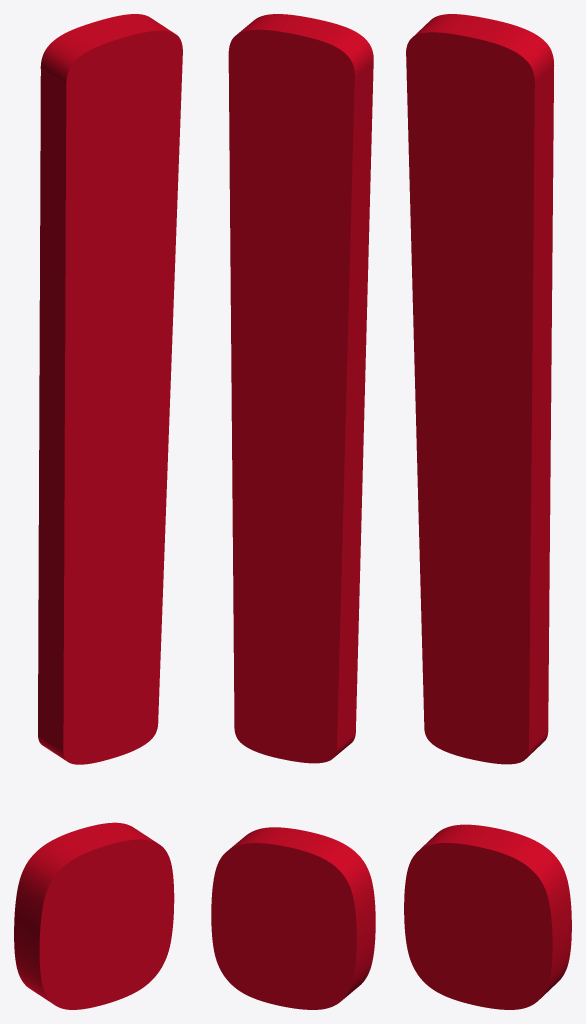
The model's file is issue2.gltf.
The picture shows the model from 3 angles, left to right: view 1: azimuth 30°, elevation 25°; view 2: azimuth 150°, elevation 25°; view 3: azimuth 330°, elevation 25°; orthographic projection. The views are drawn at different scales.
Visible parts, largest first — view 1: text_TEXT; view 2: text_TEXT; view 3: text_TEXT.
Boxes of the visible parts, <box> form: text_TEXT: <box>14,14,182,1009</box>; text_TEXT: <box>211,14,375,1009</box>; text_TEXT: <box>404,14,571,1009</box>.
Size of the model in its own units: 0.6209 by 4.02 by 0.312.
